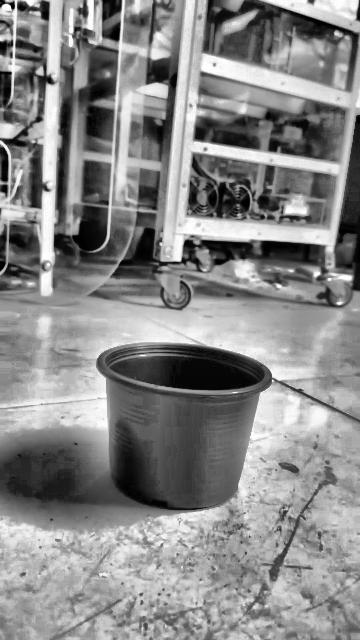pot: (97, 343, 271, 511)
